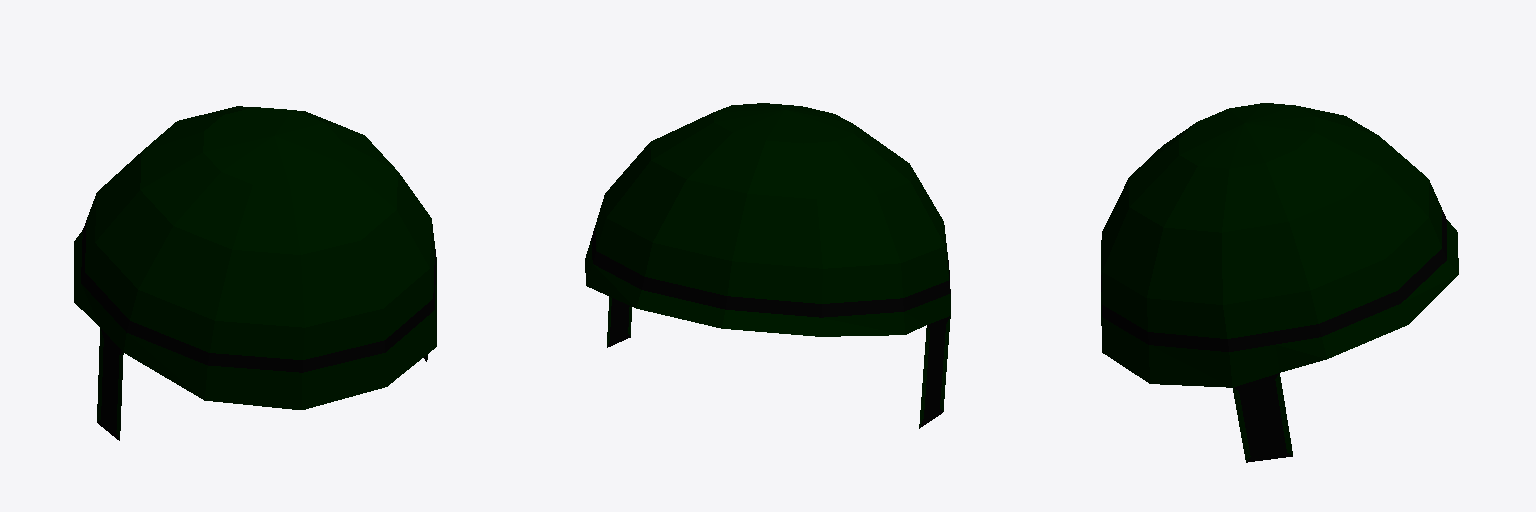
File: us_helm.obj
3 views of the same model, side by side, from view 1: azimuth 30°, elevation 25°; view 2: azimuth 150°, elevation 25°; view 3: azimuth 270°, elevation 25° (orthographic).
Parts seen in each view (by area): view 1: us_heml; view 2: us_heml; view 3: us_heml.
Part boxes in pixels (bbox=[...]): us_heml: bbox=[74, 106, 436, 440]; us_heml: bbox=[585, 103, 950, 428]; us_heml: bbox=[1101, 103, 1458, 462].
Size of the model in its own units: 0.3007 by 0.2399 by 0.2918.